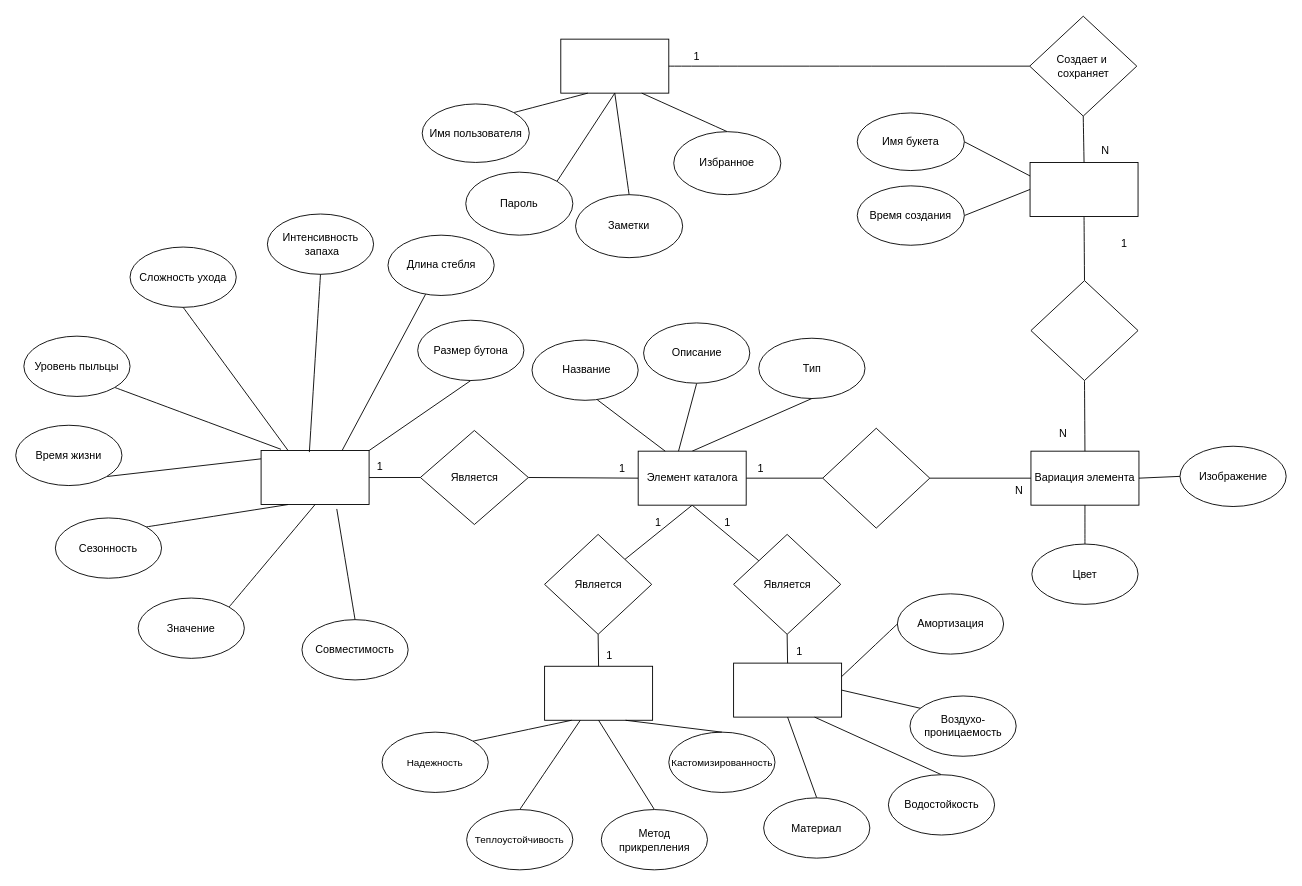
This 1302x886 diagram has some shape labels left out. Each missing label, with the centre of its shape:
Аксессуар: [598,692]
Относится к: [876,477]
Пользователь: [614,65]
Состоит из: [1084,330]
Сохраненный букет: [1083,189]
Упаковка: [787,689]
Цветок: [314,477]
